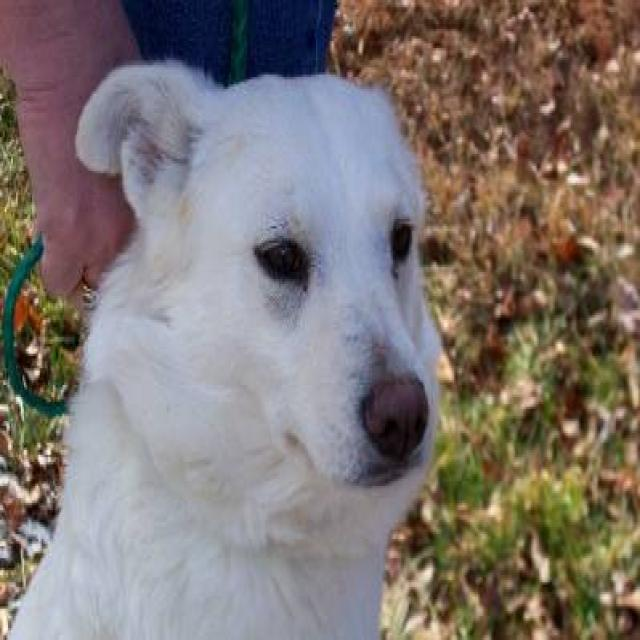dog: (0, 55, 444, 637)
